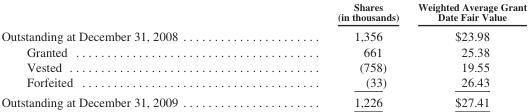table: (0, 0, 526, 108)
table column: (0, 0, 257, 108), (257, 0, 407, 108), (407, 0, 526, 108)
table column header: (0, 0, 526, 25)
table row: (0, 0, 526, 25), (0, 25, 526, 43), (0, 73, 526, 91), (0, 91, 526, 108), (0, 43, 526, 58), (0, 58, 526, 73)
